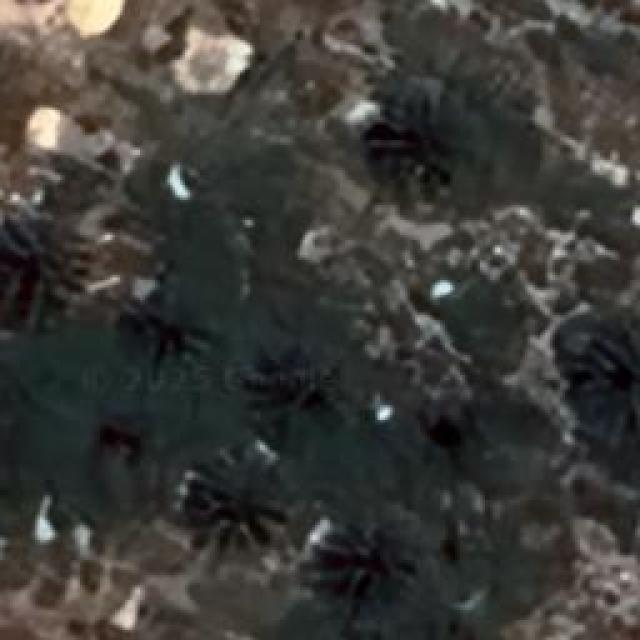PalmTree: (188, 450, 290, 555), (372, 96, 470, 199), (0, 210, 85, 322), (327, 526, 415, 612), (251, 356, 344, 436), (578, 330, 638, 435), (124, 302, 204, 376)
